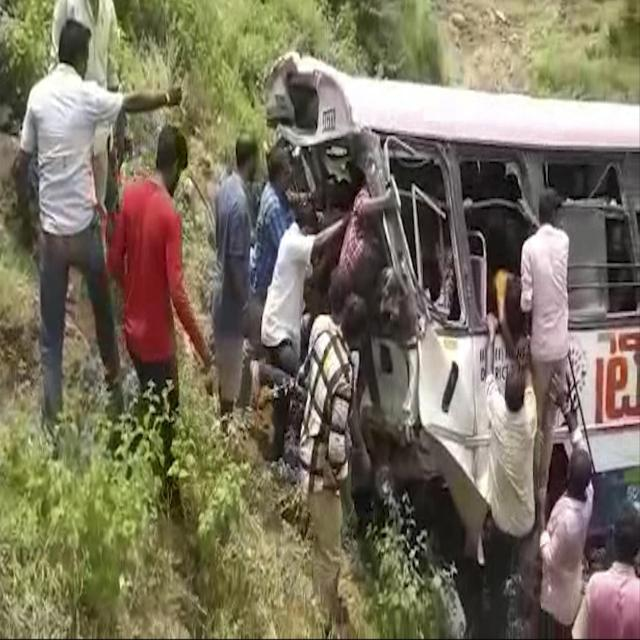accident: (265, 53, 640, 552)
